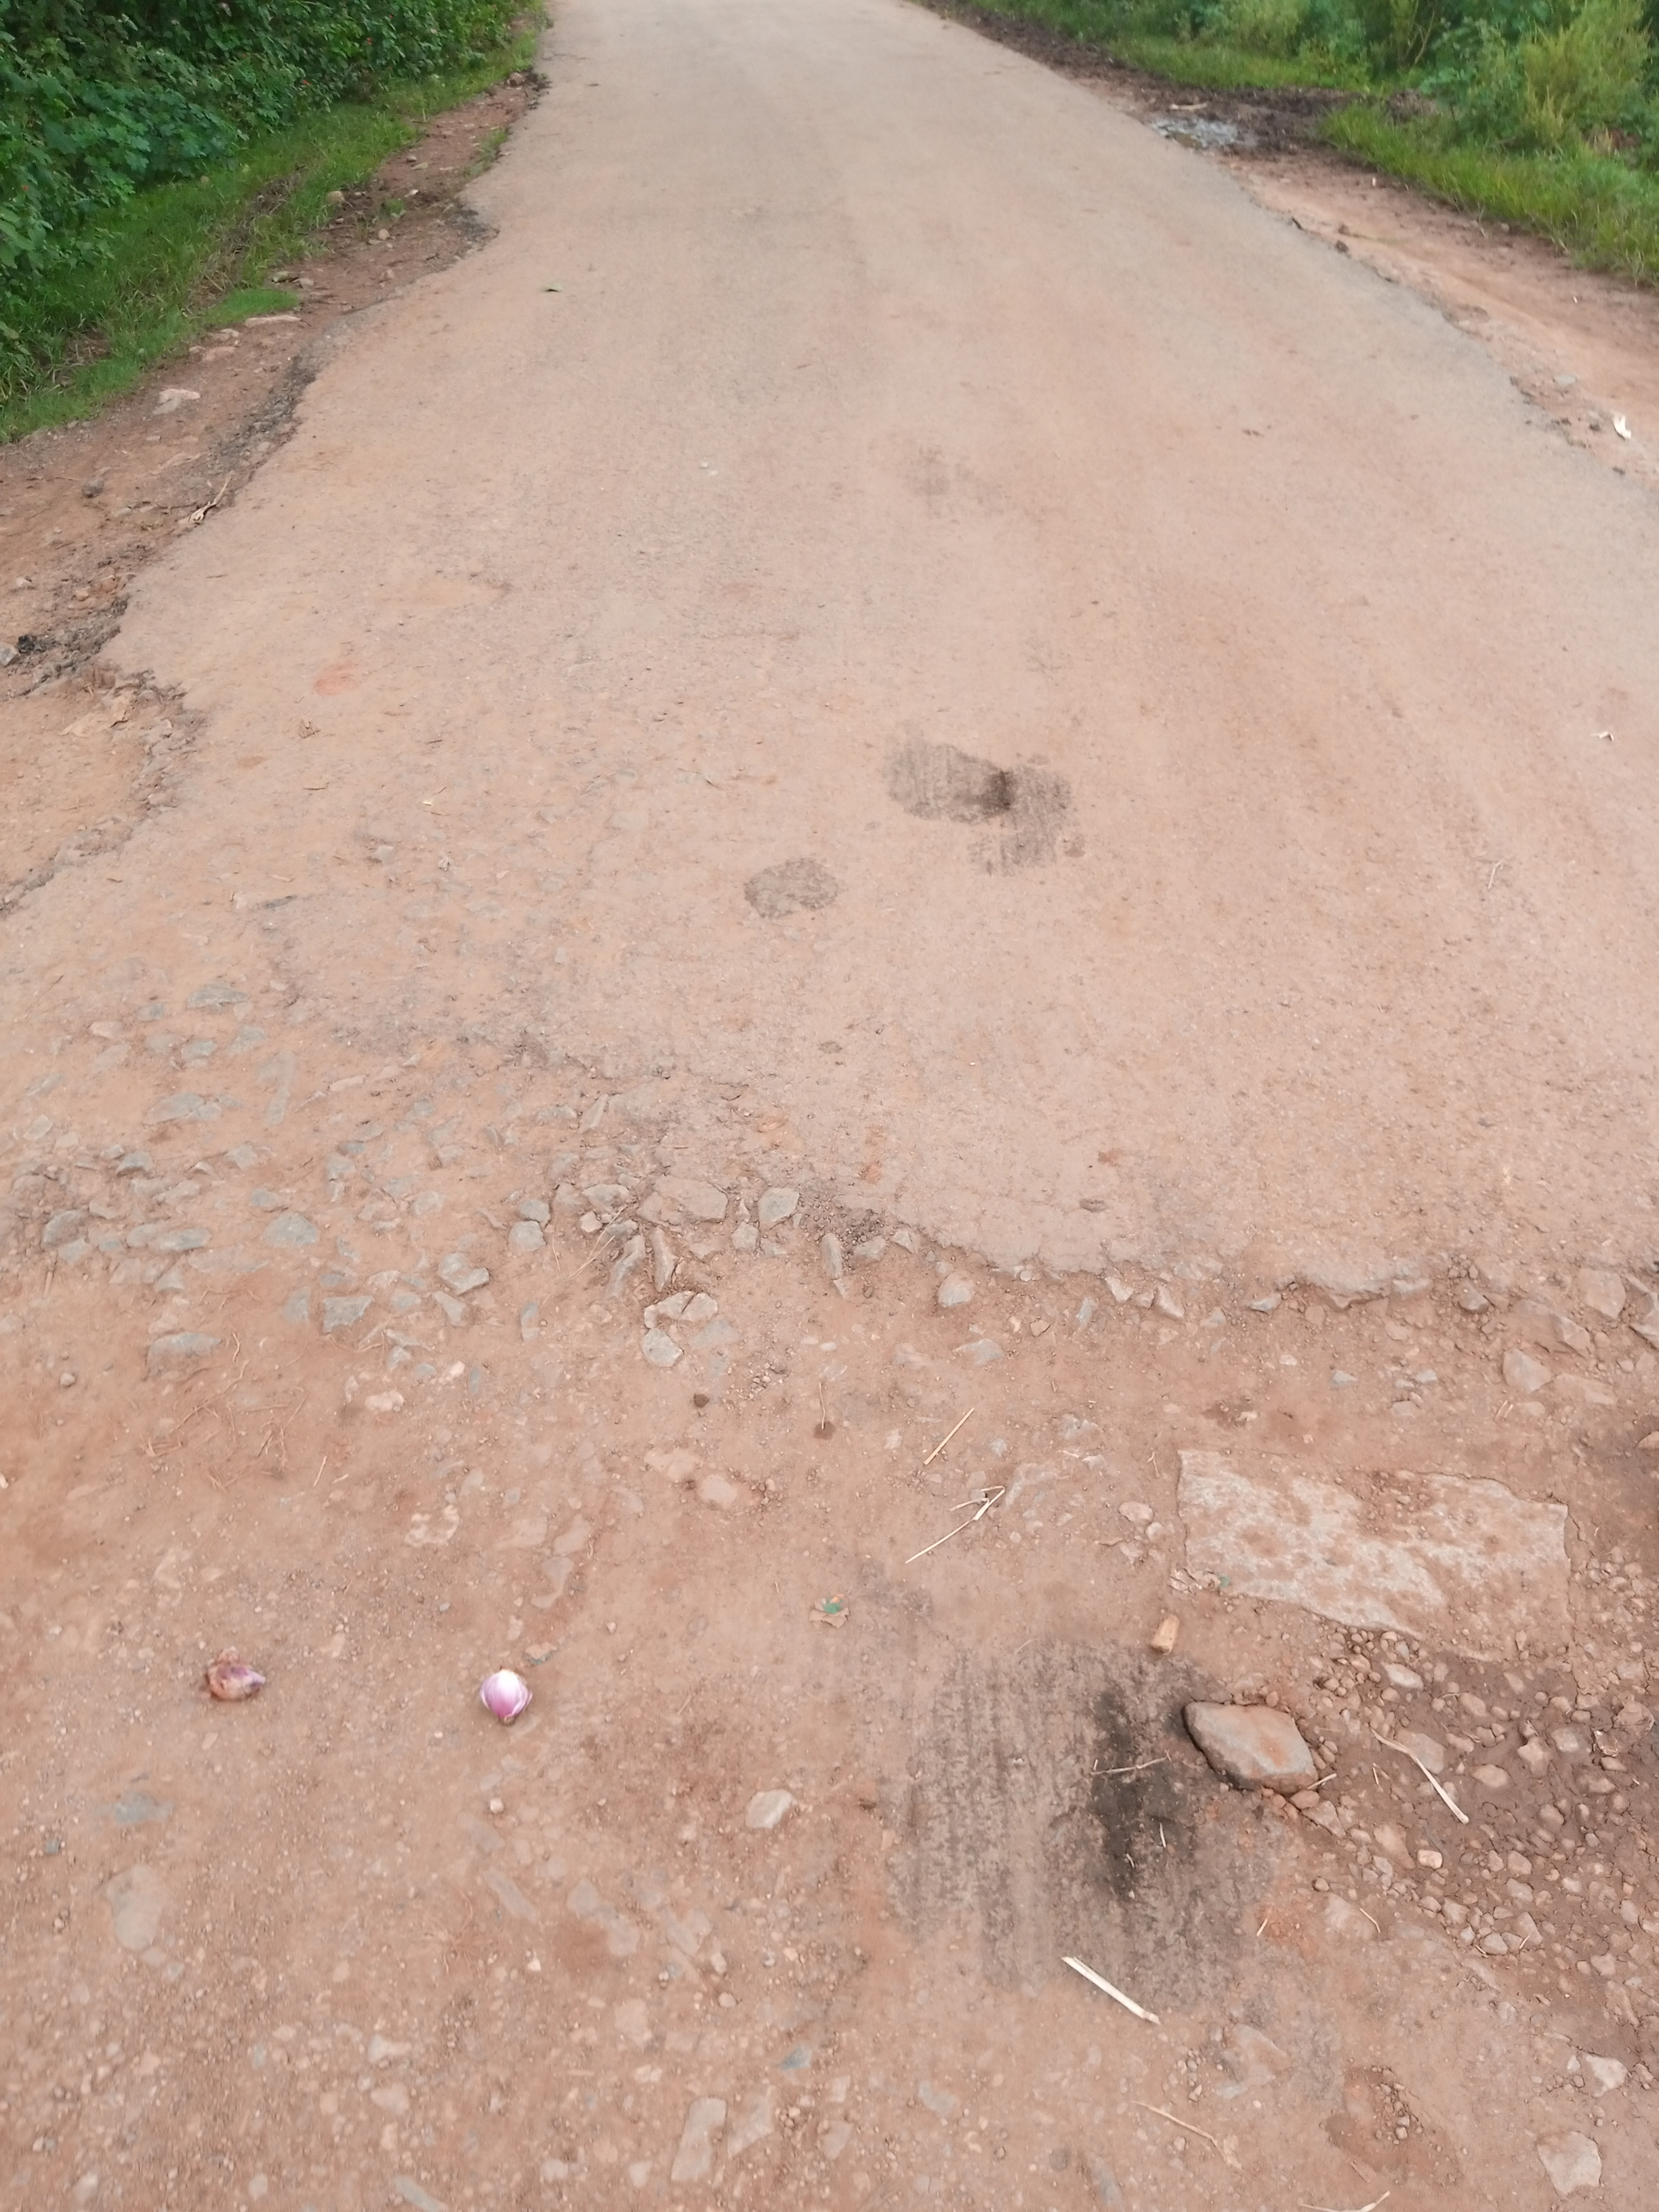potholes: (873, 733, 1032, 833), (727, 846, 849, 925)
